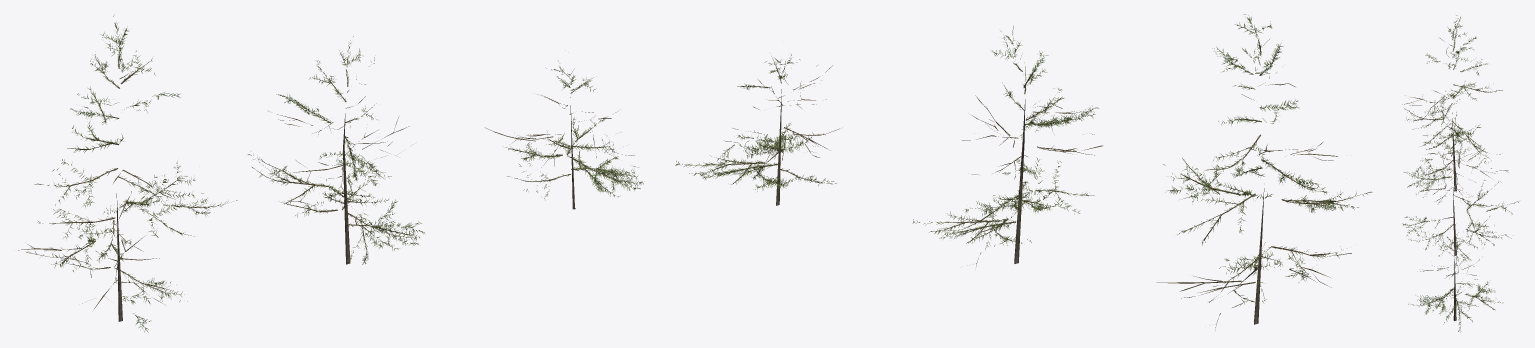
The model's file is fir_sapling.glb.
3 views of the same model, side by side, from view 1: azimuth 30°, elevation 25°; view 2: azimuth 150°, elevation 25°; view 3: azimuth 270°, elevation 25° (orthographic). The views are drawn at different scales.
Parts seen in each view (by area): view 1: fir_sapling_a, fir_sapling_b, fir_sapling_c; view 2: fir_sapling_a, fir_sapling_b, fir_sapling_c; view 3: fir_sapling_a, fir_sapling_b, fir_sapling_c.
Boxes of the visible parts, x1,y1,x2,y2 form: fir_sapling_a: (18, 14, 237, 332); fir_sapling_b: (247, 36, 424, 264); fir_sapling_c: (485, 61, 643, 209); fir_sapling_a: (1156, 14, 1372, 330); fir_sapling_b: (912, 26, 1102, 265); fir_sapling_c: (675, 54, 839, 205); fir_sapling_a: (1402, 15, 1508, 192); fir_sapling_b: (1402, 124, 1518, 267); fir_sapling_c: (1408, 232, 1503, 332).
Bounding box in the file's own units: 2.72 × 1.26 × 0.7755.
2 materials, 2 textured.
